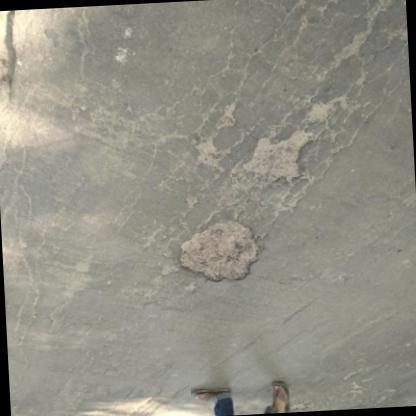pothole: (172, 218, 262, 284), (241, 126, 323, 186)
